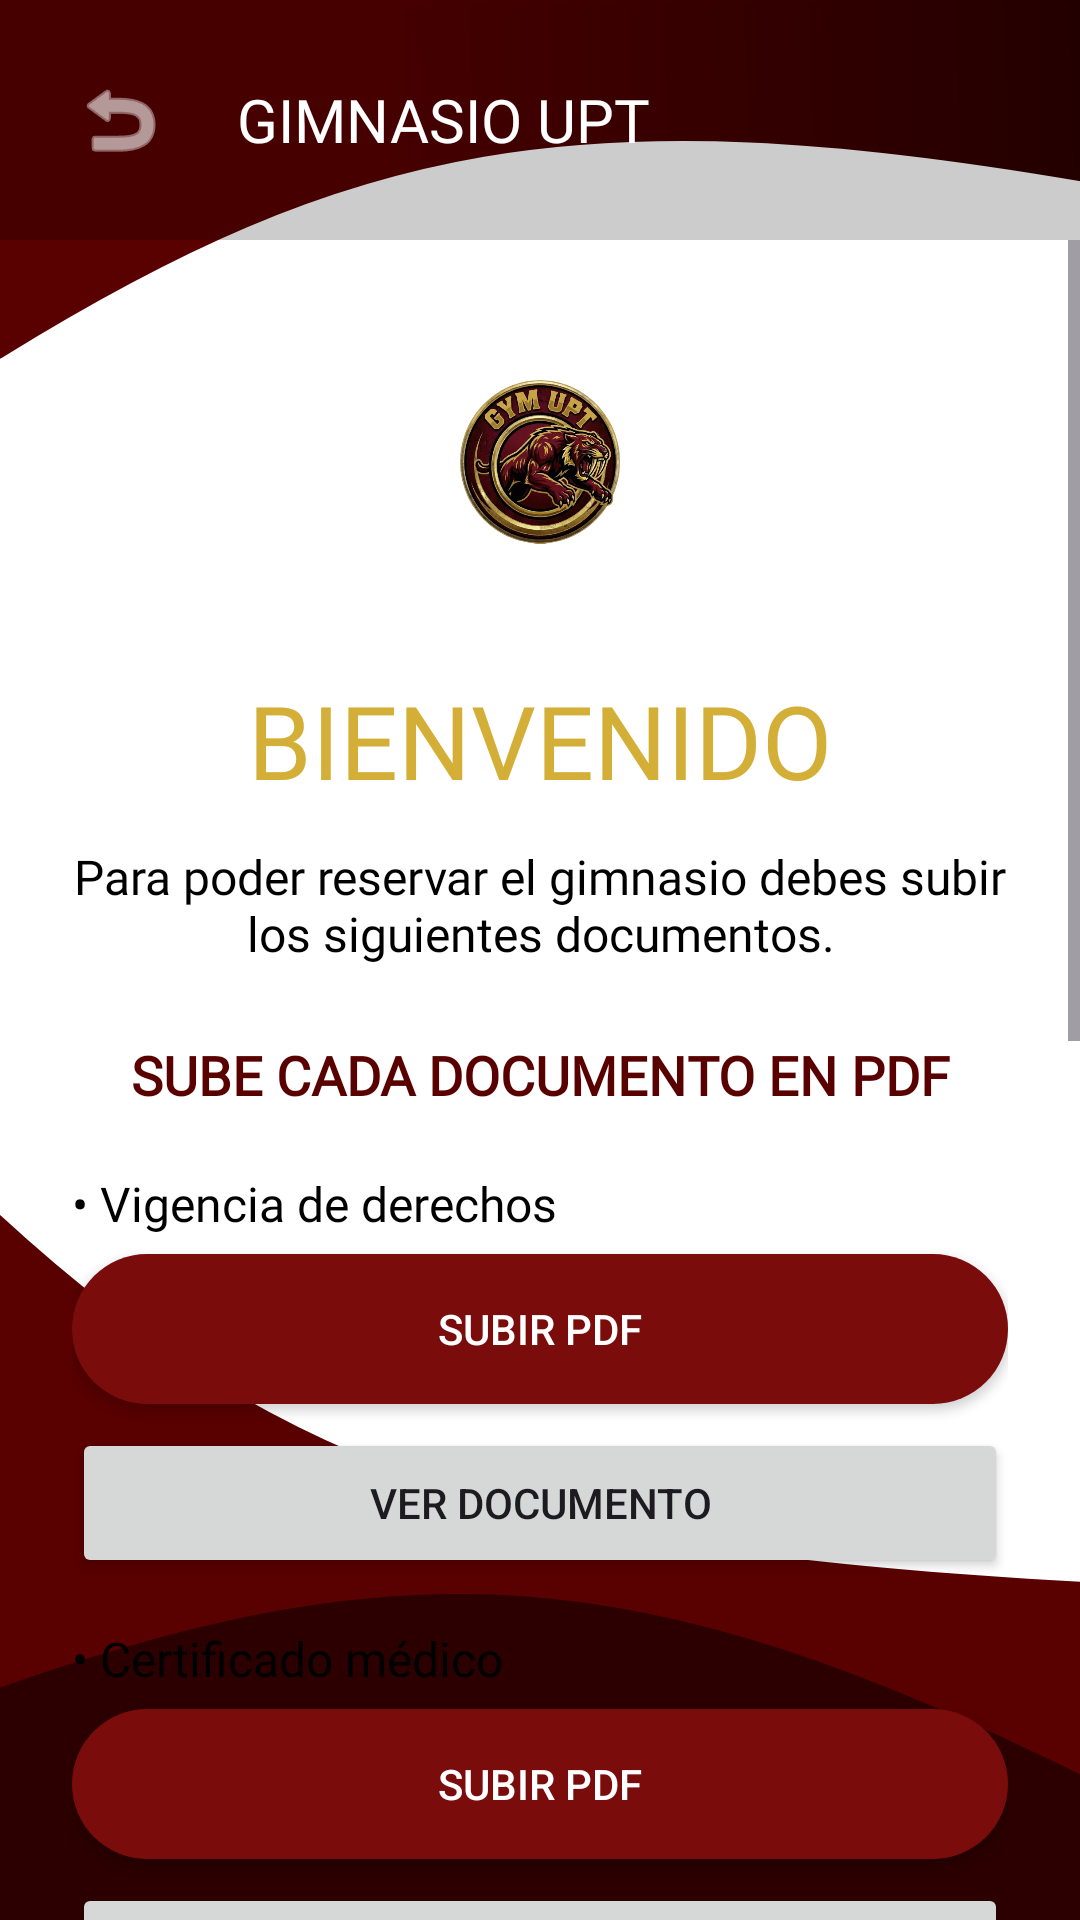

Icons on this 1080 × 1920 Android screen, each with the point to tap as [x,y]:
Regresar: [121,120]
